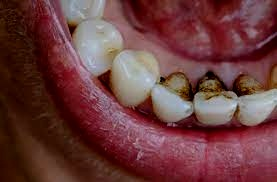Tooth Discoloration: (155, 61, 277, 107)
